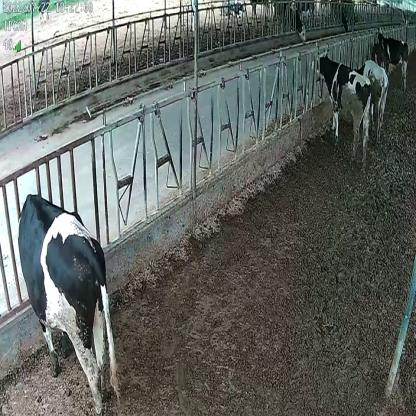cow: (16, 190, 122, 414), (310, 50, 373, 168), (353, 59, 389, 142)
